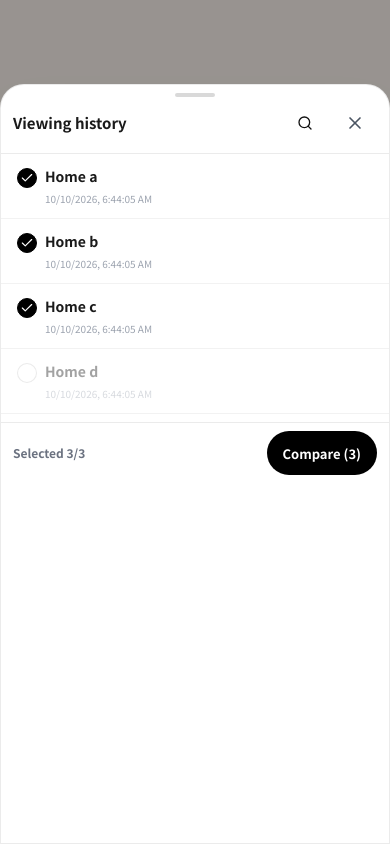
Test case: MobileHistoryDrawer › does not select a fourth row and shows the limit once
Click the checkbox labelled "Home d 10/10/2026, 6:44:05 AM".
click(72, 371)  # box [1, 349, 389, 413]
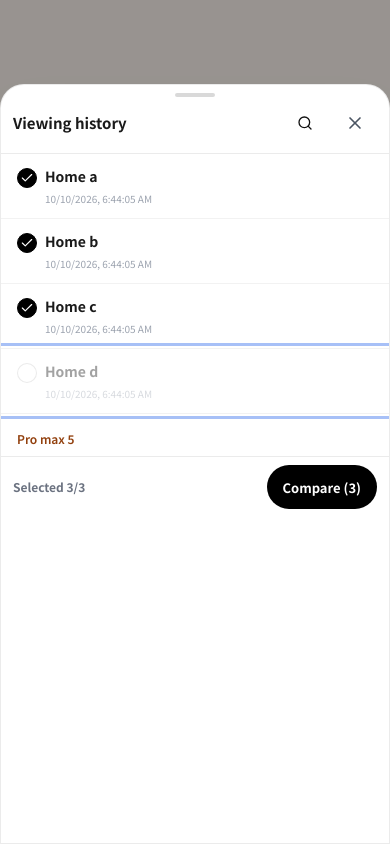
Check: the message reads "Pro max 5", box [17, 430, 75, 447]
